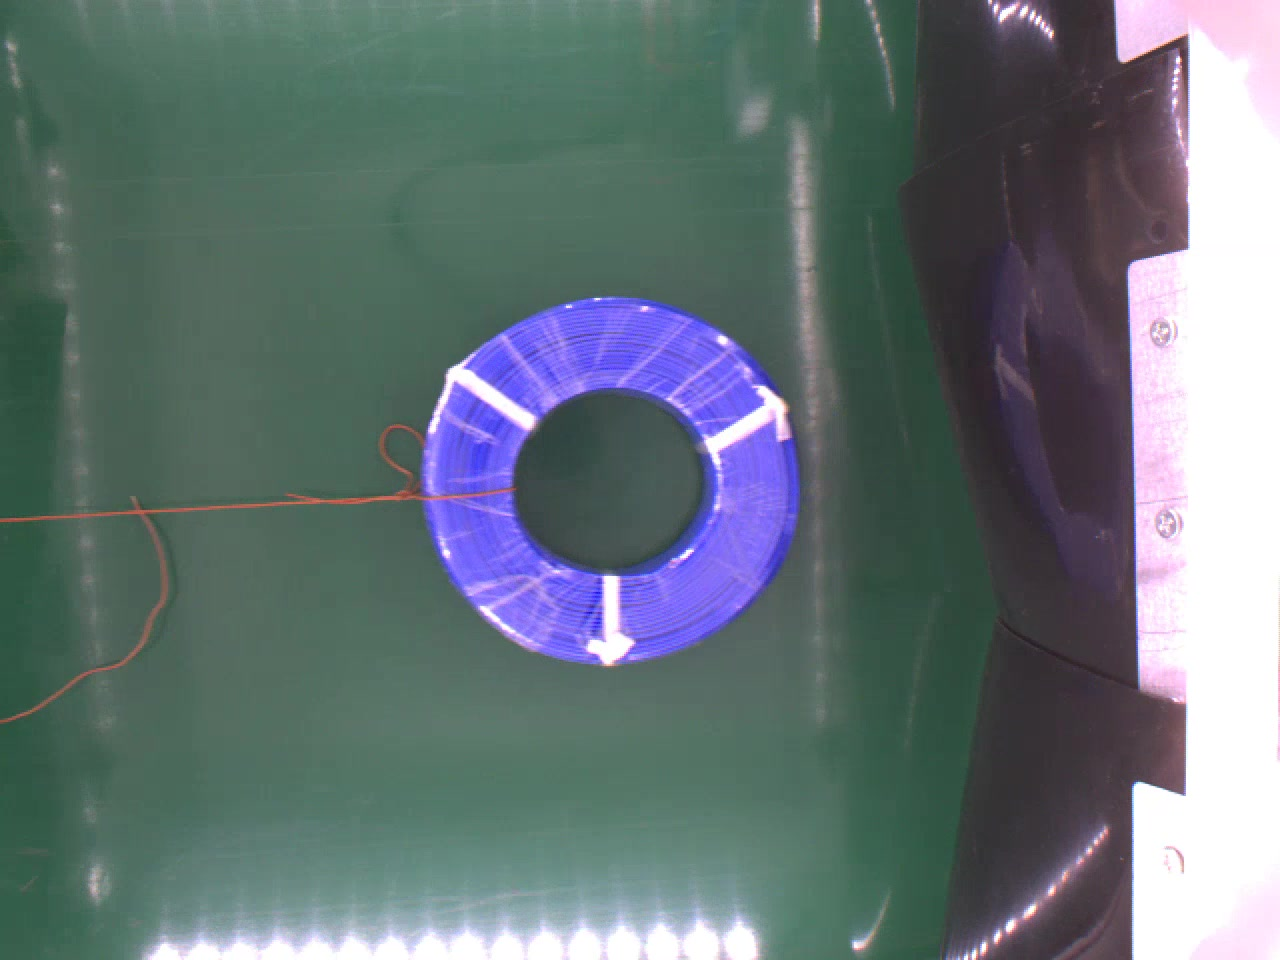blue: (421, 292, 798, 670)
